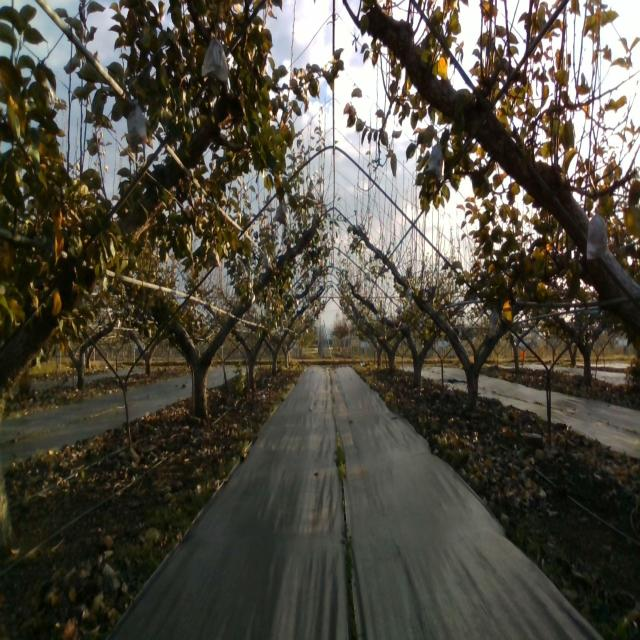pearbags: (201, 29, 228, 82), (586, 212, 611, 260), (126, 98, 148, 151), (424, 138, 445, 182), (274, 201, 289, 228), (488, 308, 501, 338), (205, 247, 221, 267)
